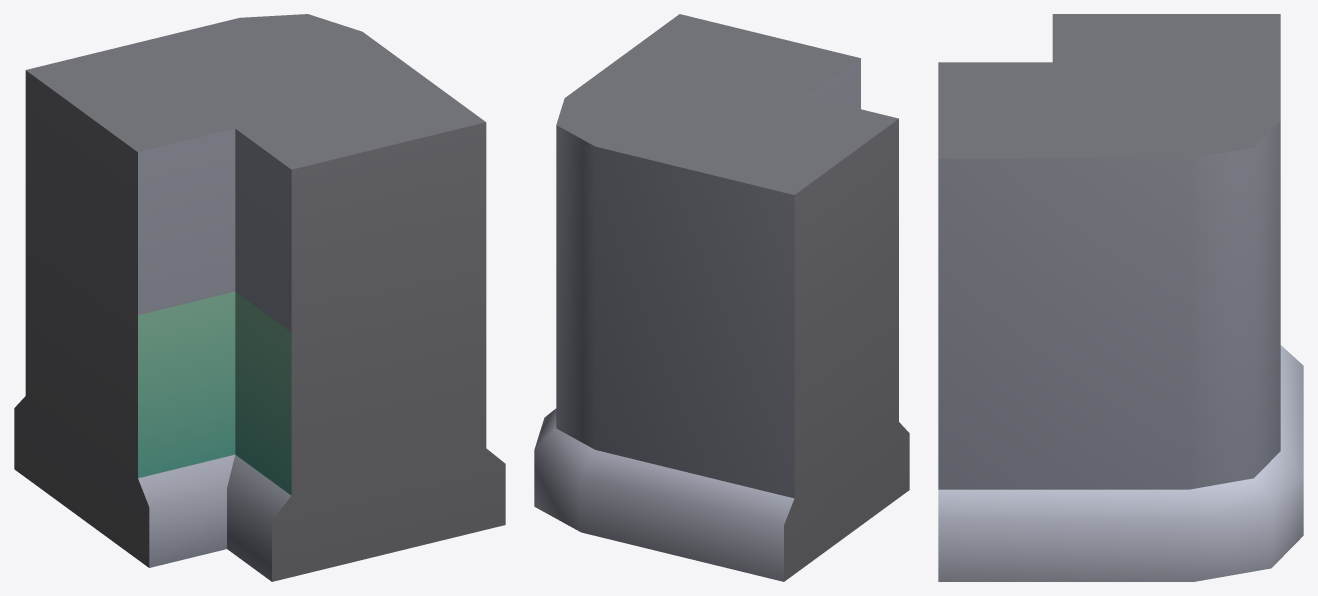
File: wall-corner.glb
The picture shows the model from 3 angles, left to right: view 1: azimuth 30°, elevation 25°; view 2: azimuth 150°, elevation 25°; view 3: azimuth 270°, elevation 25°; orthographic projection. The views are drawn at different scales.
Visible parts, largest first — view 1: wall-corner; view 2: wall-corner; view 3: wall-corner.
Boxes of the visible parts, x1,y1,x2,y2 form: wall-corner: [14, 14, 505, 581]; wall-corner: [534, 14, 909, 581]; wall-corner: [938, 14, 1303, 581].
Size of the model in its own units: 0.8 by 1 by 0.8.
